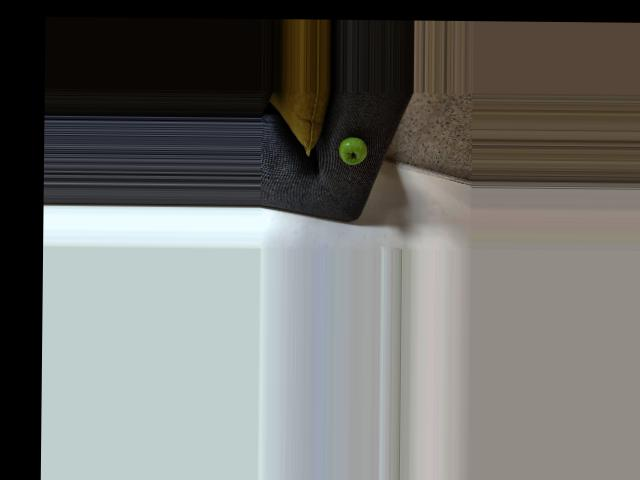apple: (337, 133, 367, 165)
